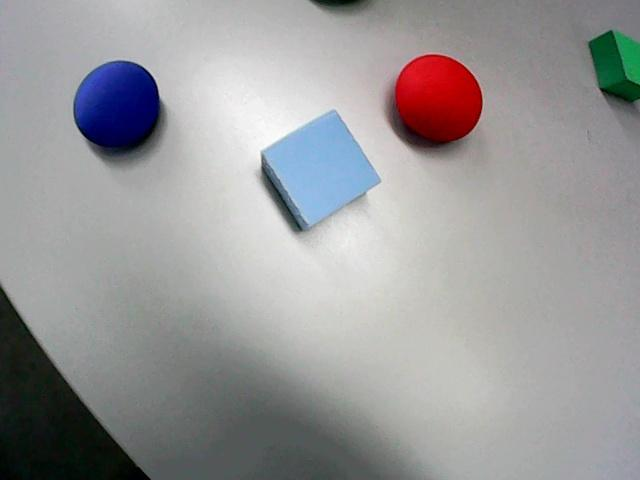blue_block: (262, 111, 380, 230)
